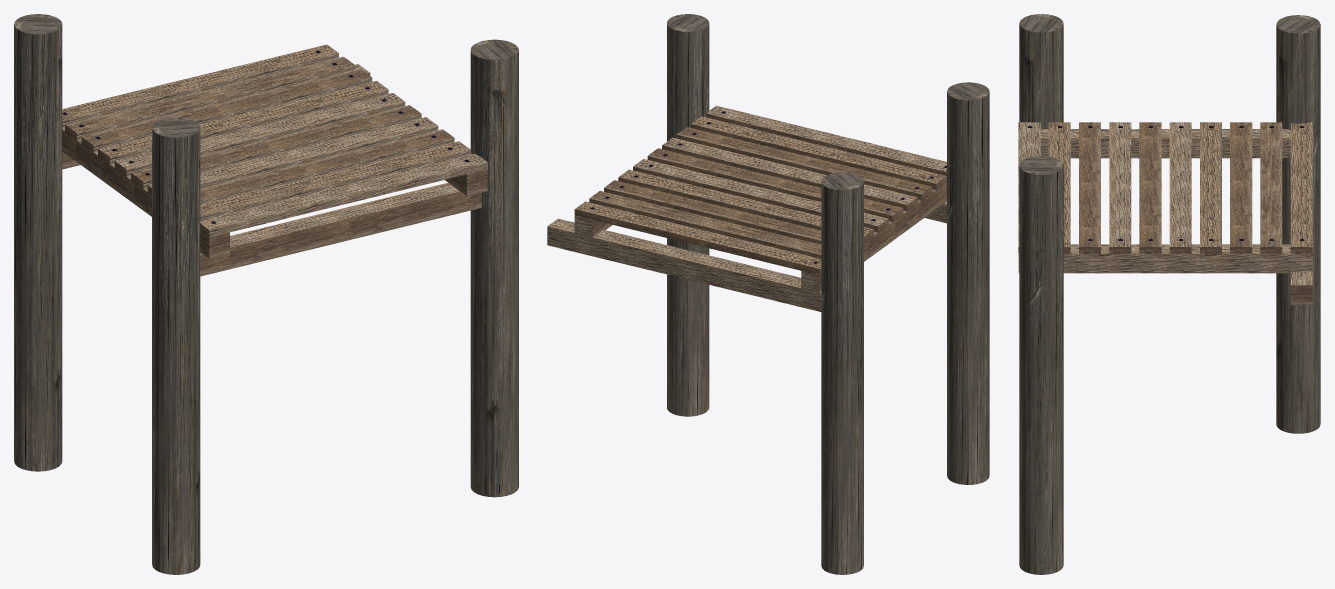
The model's file is Plataforma madera 4to C.fbx.
3 renders of one model, left to right at view 1: azimuth 30°, elevation 25°; view 2: azimuth 150°, elevation 25°; view 3: azimuth 270°, elevation 25°, orthographic. The views are drawn at different scales.
Visible parts, largest first — view 1: cilindro y viga, Cylinder.003, Cylinder.002; view 2: Cylinder.003, cilindro y viga, Cylinder.002, Cylinder.004; view 3: Cylinder.003, cilindro y viga, Cylinder.002, Cylinder.004.
Part boxes in pixels (x1,y1,x2,y2): cilindro y viga: (152,39,518,574); Cylinder.003: (62,44,487,258); Cylinder.002: (14,14,62,471); Cylinder.003: (574,105,946,294); cilindro y viga: (667,14,989,484); Cylinder.002: (821,172,863,574); Cylinder.004: (547,218,821,312); Cylinder.003: (1018,122,1312,273); cilindro y viga: (1019,14,1063,574); Cylinder.002: (1276,15,1320,433); Cylinder.004: (1290,271,1312,305).
Bounding box in the file's own units: 517 × 600 × 411.
3 materials, 2 textured.
